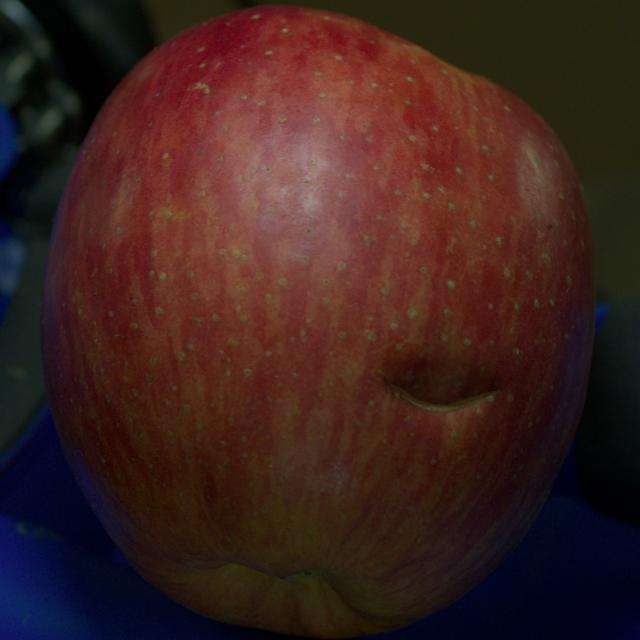apple: (41, 7, 594, 638)
bruise: (384, 359, 498, 397)
scratch: (388, 381, 498, 412)
